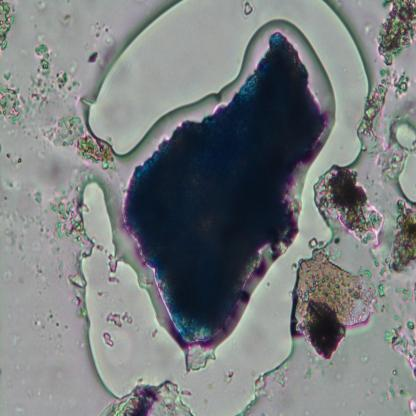Air bubble: (177, 228, 329, 414), (73, 176, 185, 399)
Background material: (86, 2, 379, 156), (293, 244, 377, 360), (362, 67, 416, 179), (0, 45, 75, 125), (42, 115, 117, 168), (374, 2, 416, 66), (383, 198, 416, 278), (378, 319, 416, 379), (45, 188, 85, 242), (102, 312, 132, 348), (0, 1, 17, 54), (84, 50, 99, 67), (243, 2, 254, 20), (32, 189, 43, 204)
Fragment: (124, 32, 320, 345)
